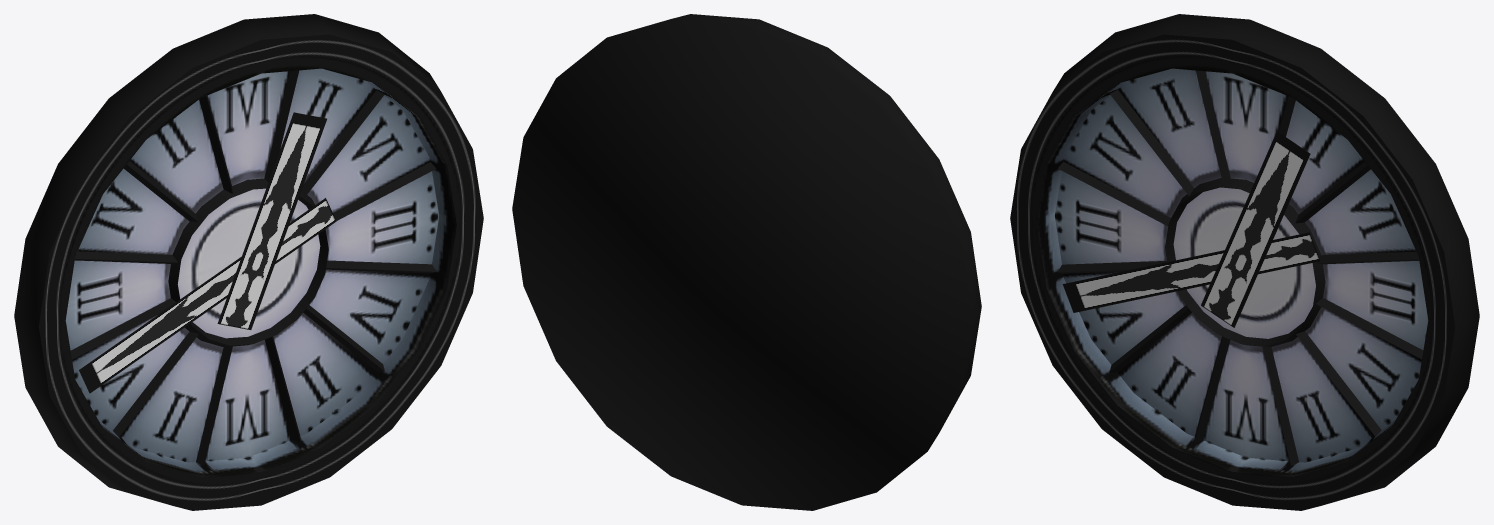
File: GothicClock_HD.fbx
The picture shows the model from 3 angles, left to right: view 1: azimuth 30°, elevation 25°; view 2: azimuth 150°, elevation 25°; view 3: azimuth 330°, elevation 25°; orthographic projection.
Visible parts, largest first — view 1: GothicClock; view 2: GothicClock; view 3: GothicClock.
Boxes of the visible parts, left/top/right/bottom form: GothicClock: left=14, top=14, right=483, bottom=510; GothicClock: left=512, top=14, right=981, bottom=510; GothicClock: left=1010, top=14, right=1479, bottom=510.
Size of the model in its own units: 0.7826 by 0.7826 by 0.0514.
